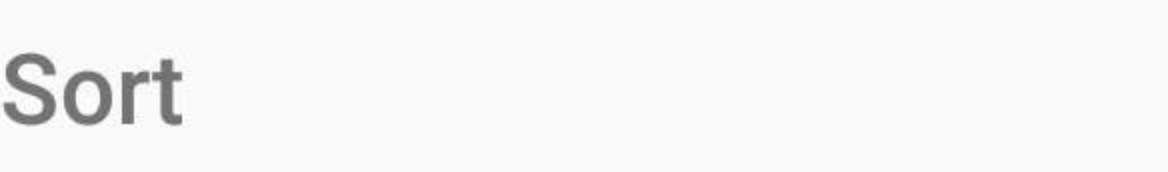TextView: (1, 1, 1167, 171)
